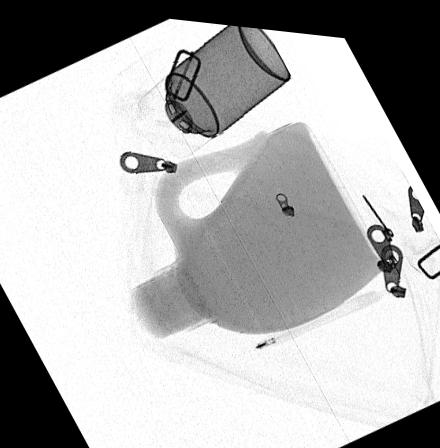Sprayer: (136, 20, 291, 155)
